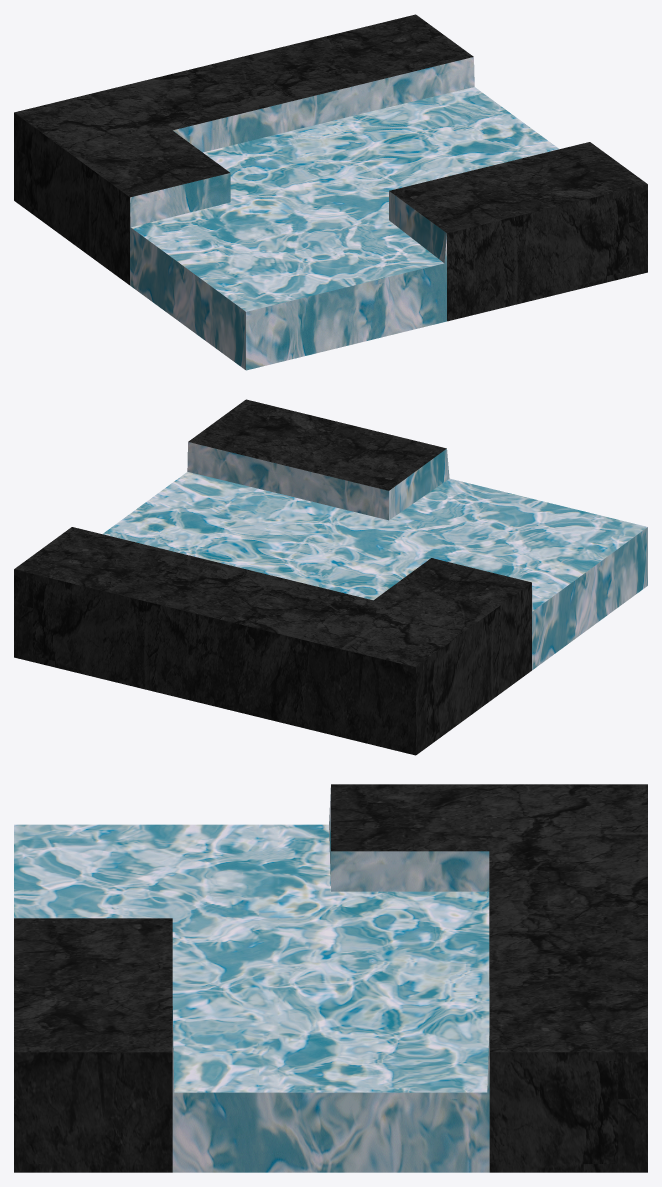
File: AllyPath22.fbx
The picture shows the model from 3 angles, top to bottom: view 1: azimuth 30°, elevation 25°; view 2: azimuth 150°, elevation 25°; view 3: azimuth 270°, elevation 25°; orthographic projection. The views are drawn at different scales.
Parts seen in each view (by area): view 1: AllyPath22; view 2: AllyPath22; view 3: AllyPath22.
Part boxes in pixels (x1,y1,x2,y2): AllyPath22: (14, 14, 647, 370); AllyPath22: (14, 399, 647, 755); AllyPath22: (14, 784, 647, 1172).
Size of the model in its own units: 100 by 20.97 by 100.
2 materials, 2 textured.
